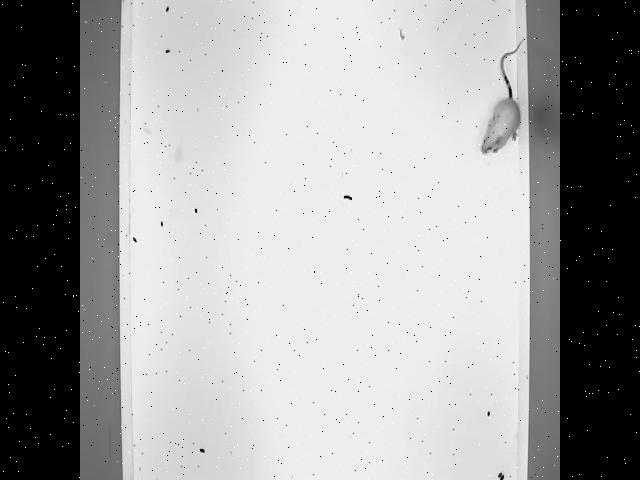Tikus: (476, 38, 526, 158)
